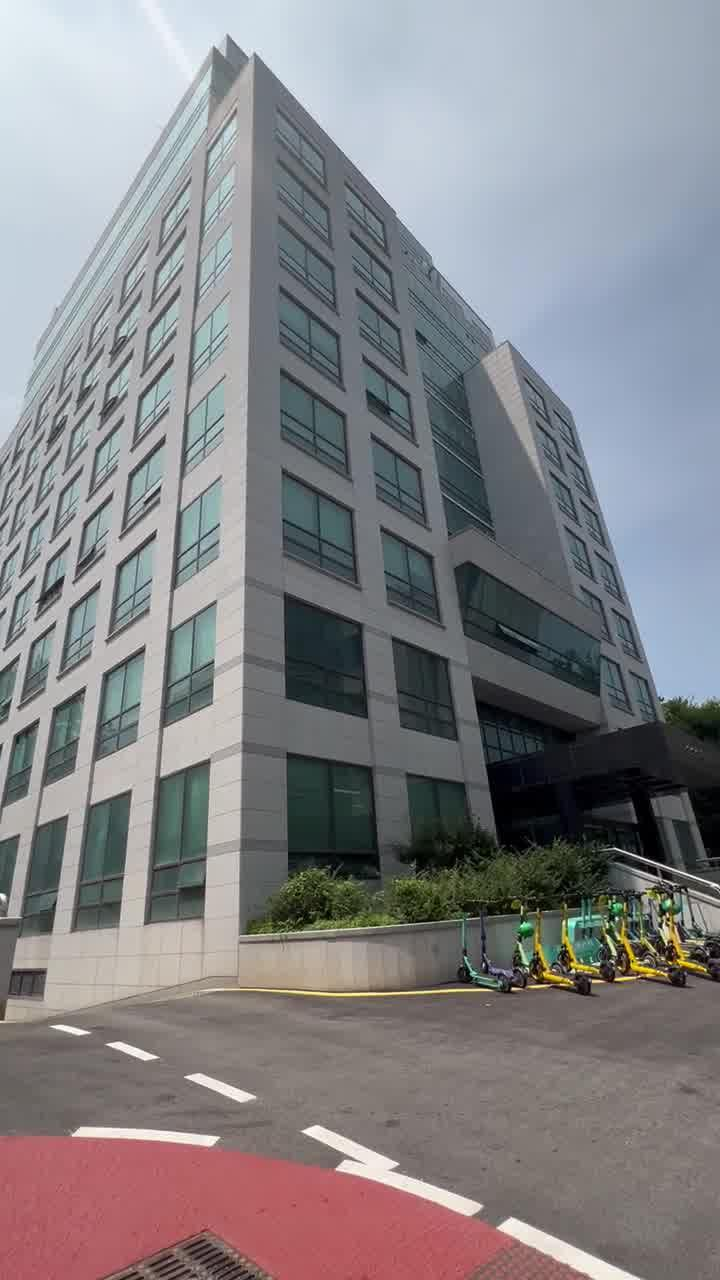building: (8, 52, 682, 864)
